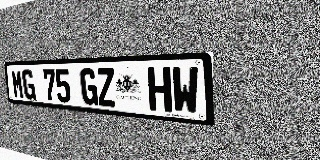5: (55, 69, 72, 103)
7: (42, 69, 58, 102)
G: (79, 68, 98, 106), (22, 70, 36, 100)
H: (147, 67, 172, 112)
M: (11, 70, 25, 99)
W: (172, 67, 199, 115)
Z: (96, 68, 116, 107)
